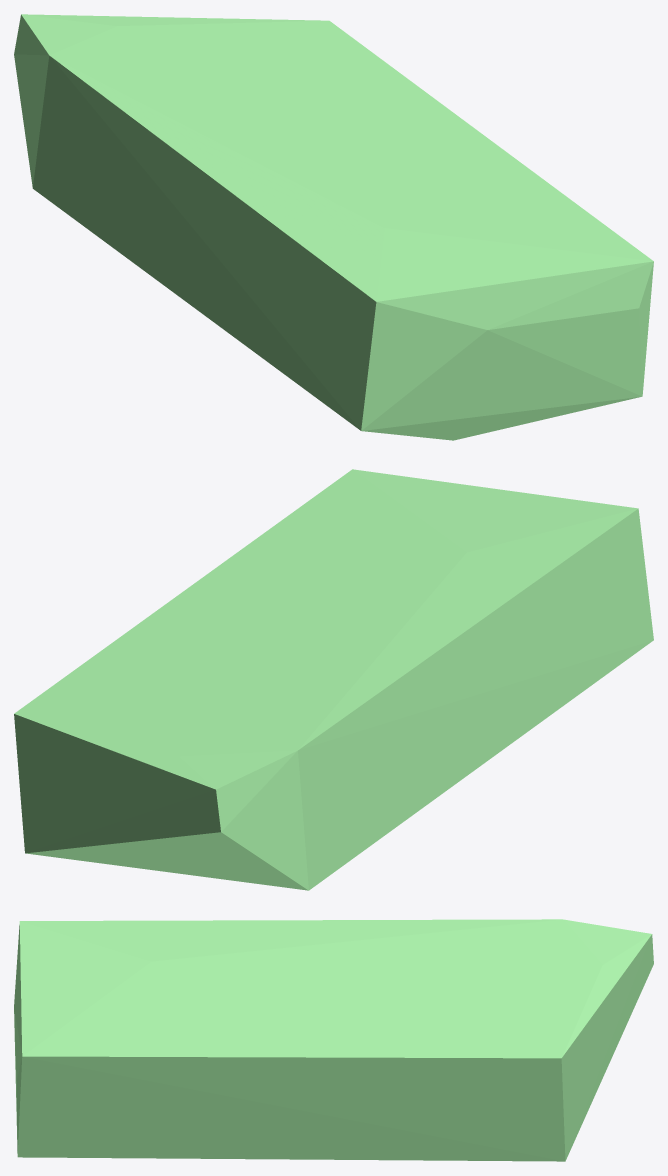
File: UMIRobot_UMIRobot_link_3_convex_coll_2.dae
The picture shows the model from 3 angles, top to bottom: view 1: azimuth 30°, elevation 25°; view 2: azimuth 150°, elevation 25°; view 3: azimuth 270°, elevation 25°; orthographic projection. The views are drawn at different scales.
Visible parts, largest first — view 1: node; view 2: node; view 3: node.
Part boxes in pixels (x1=…): node: x1=14, y1=14, x2=653, y2=440; node: x1=14, y1=469, x2=653, y2=890; node: x1=14, y1=919, x2=653, y2=1161.
Size of the model in its own units: 0.0209 by 0.0111 by 0.0472.
